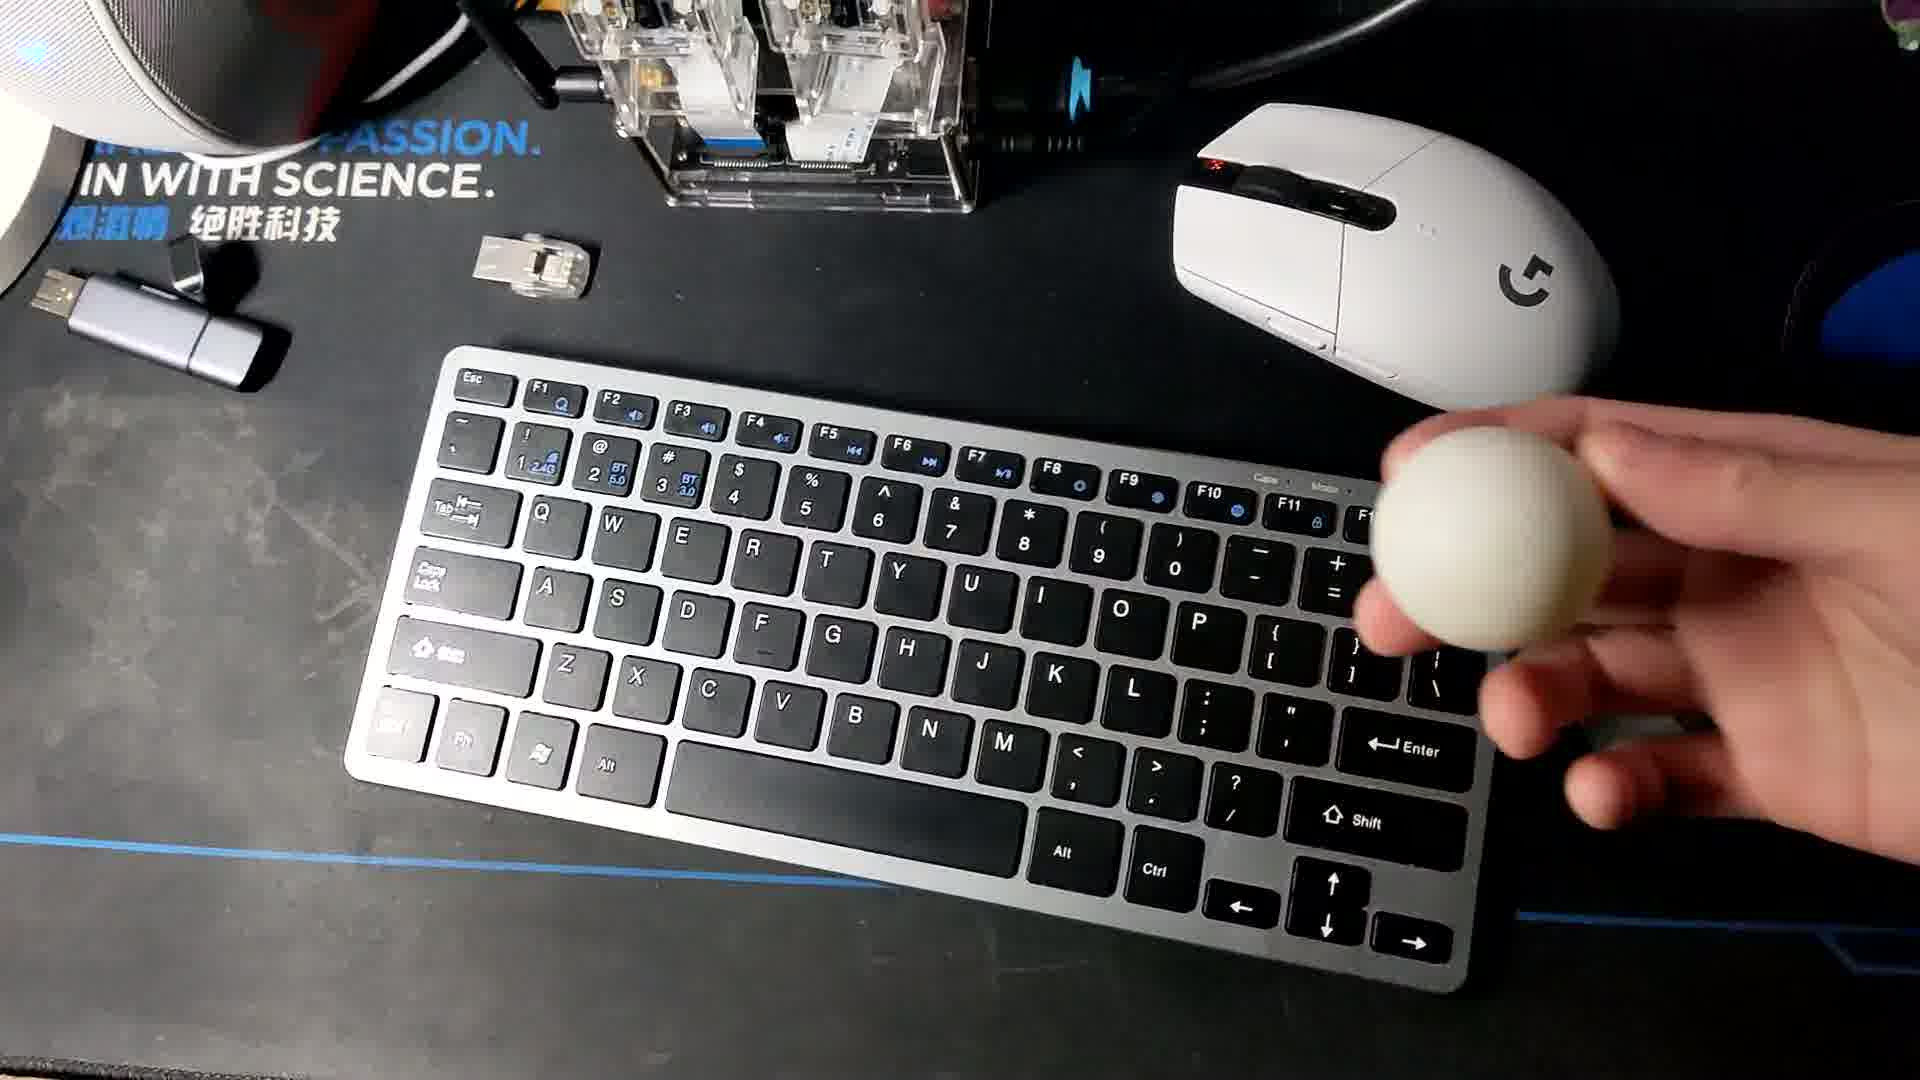Ball: (1370, 429, 1607, 658)
